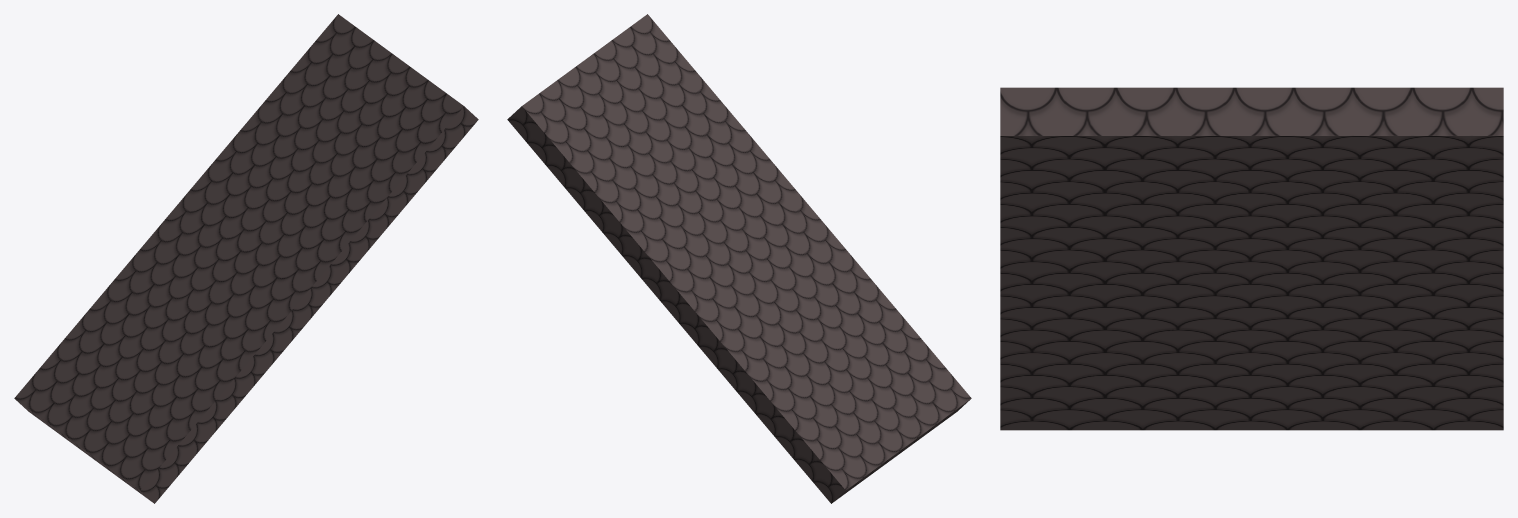
Rendered from schoolroofFront.fbx.
The picture shows the model from 3 angles, left to right: view 1: azimuth 30°, elevation 25°; view 2: azimuth 150°, elevation 25°; view 3: azimuth 270°, elevation 25°; orthographic projection. The views are drawn at different scales.
Visible parts, largest first — view 1: roofFront; view 2: roofFront; view 3: roofFront.
Part boxes in pixels (bbox=[...]): roofFront: bbox=[14, 14, 478, 503]; roofFront: bbox=[507, 14, 971, 503]; roofFront: bbox=[1000, 87, 1503, 430].
Bounding box in the file's own units: 757 × 688 × 487.
Materials: 1 (1 with a texture image).
